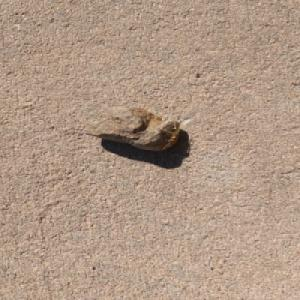Rock: (83, 105, 181, 151)
